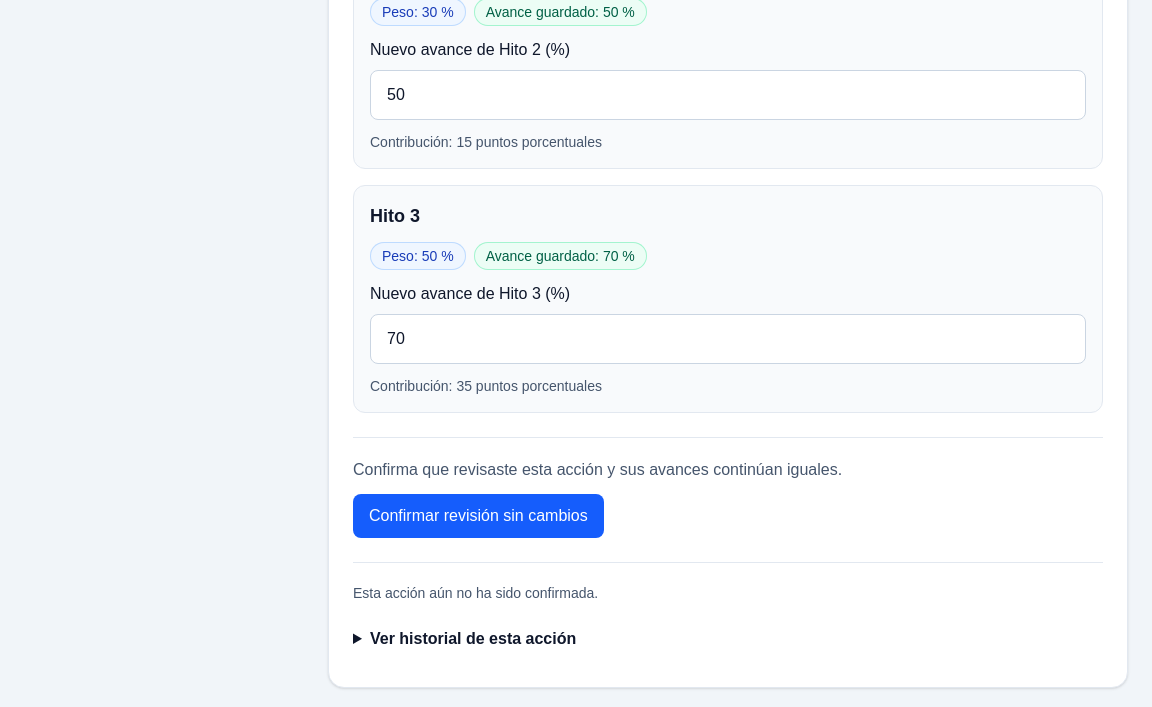
Test: confirma sin cambios y conserva el estado con cambios si ya existía
The image size is (1152, 707).
(page scrolled)
Click the button "Confirmar revisión sin cambios".
click(478, 516)  # box top-left (353, 494), bottom-right (604, 538)
(page scrolled)
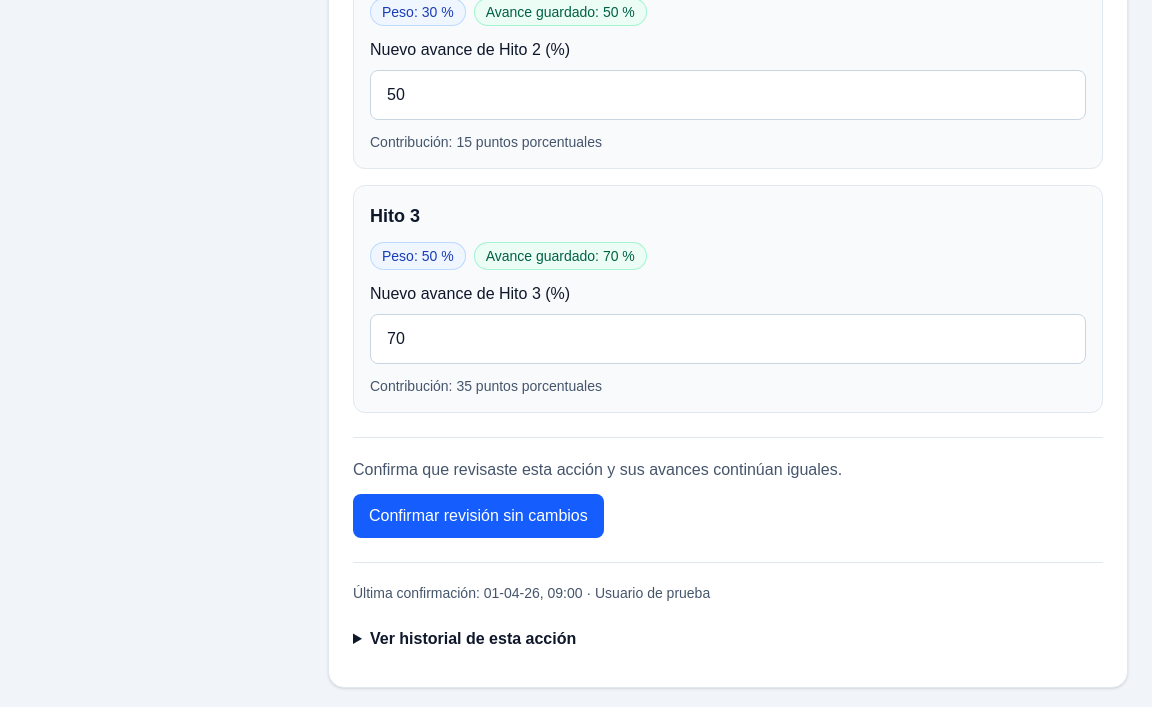
Click the button "Confirmar revisión sin cambios".
click(478, 516)  # box top-left (353, 494), bottom-right (604, 538)
(page scrolled)
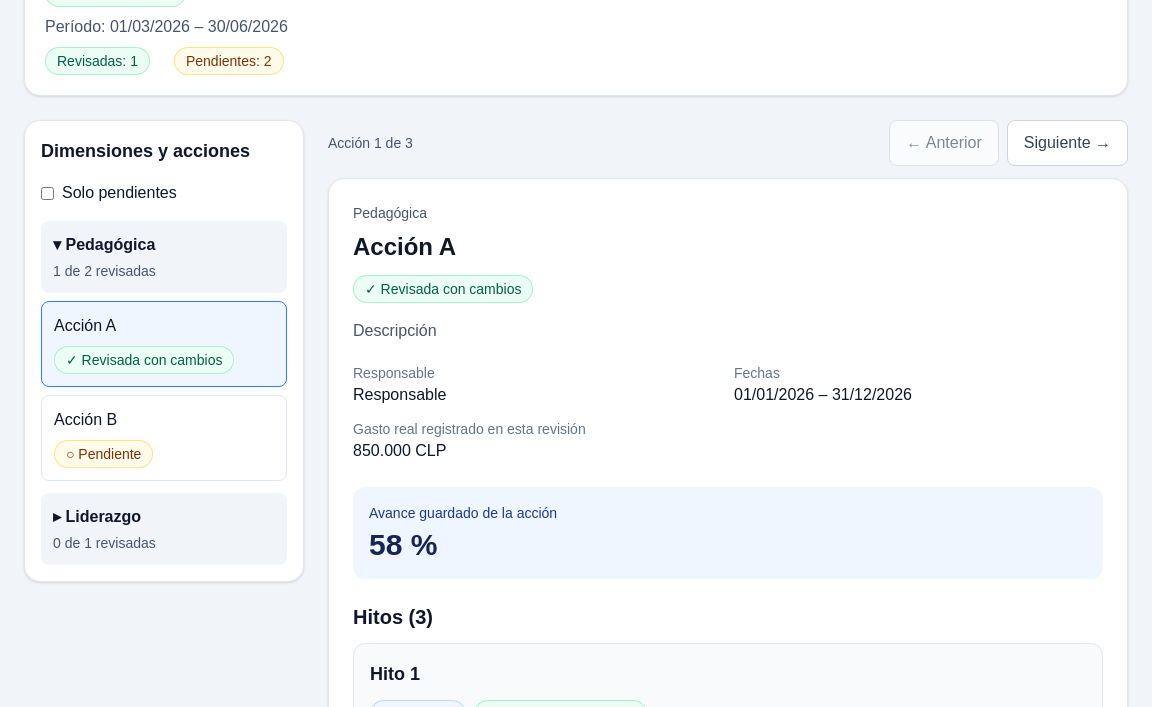
Now the 2nd text "✓ Revisada con cambios" is shown, box top-left (54, 346), bottom-right (234, 374)
